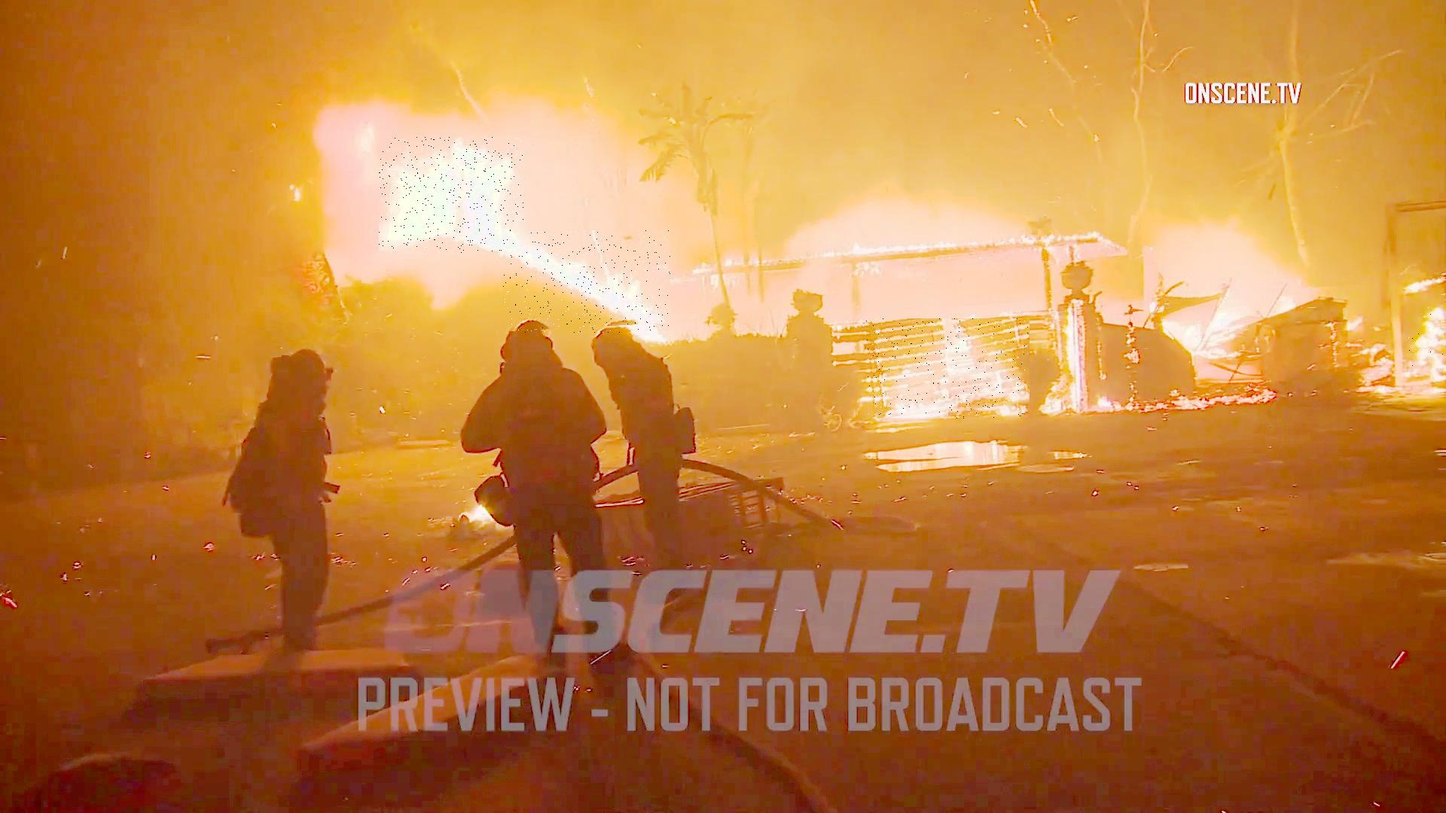fire: (503, 231, 671, 333), (379, 138, 523, 254), (866, 319, 1030, 419), (1403, 305, 1446, 398)
